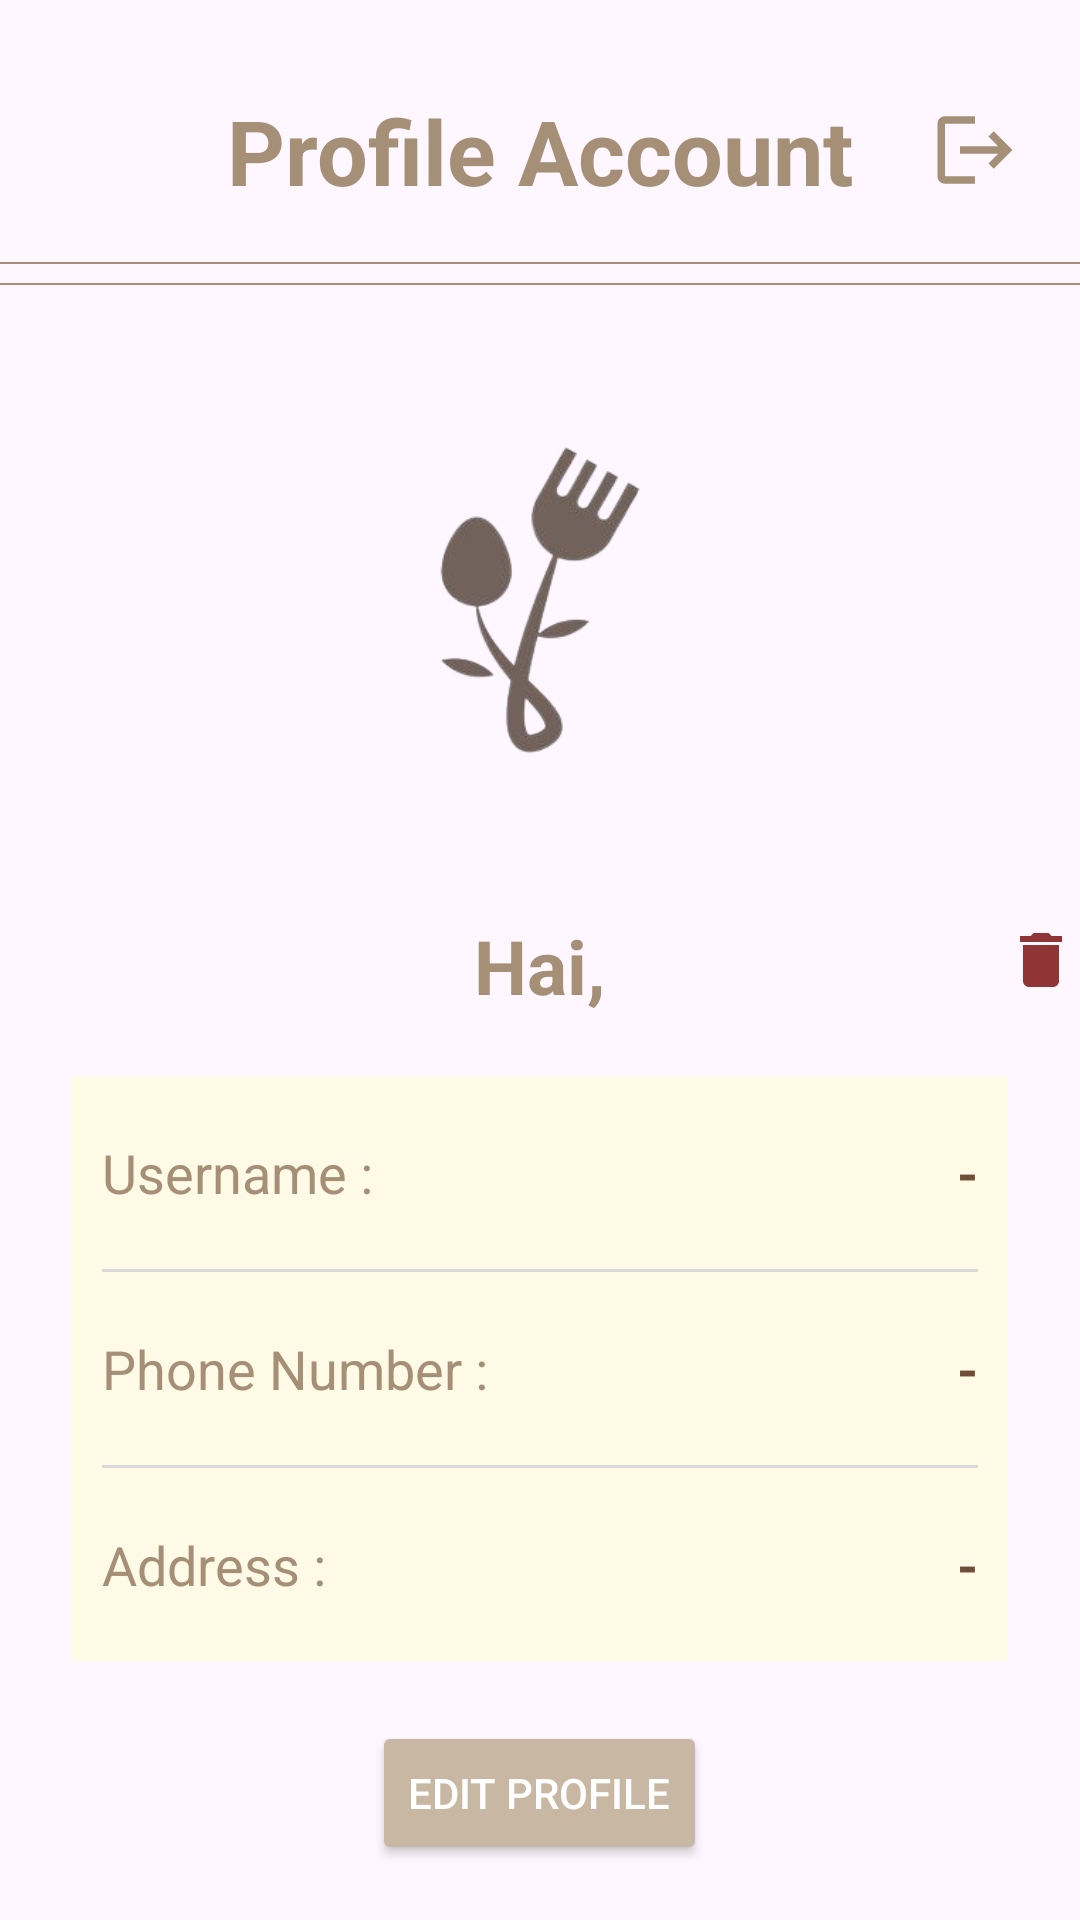

Named icons in this screenshot (1080px x 1920px) and their bounding boxes, rect(x1, y1, x2, y2):
ayomakan: rect(440, 447, 639, 753)
delete: rect(1020, 933, 1062, 987)
